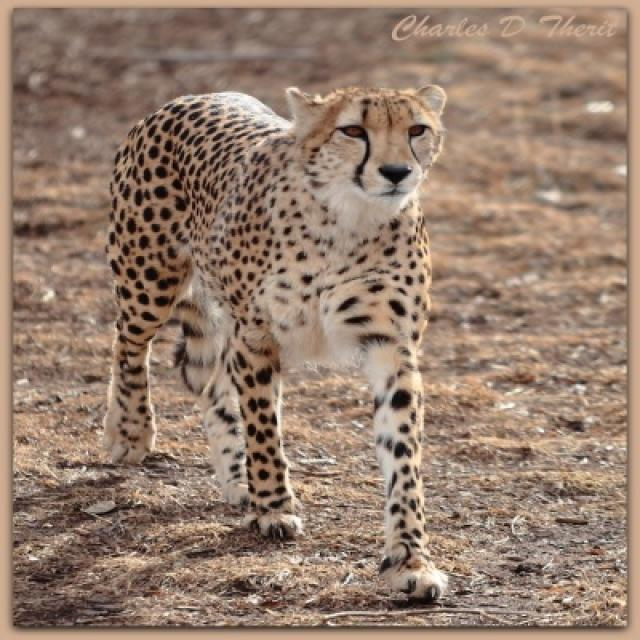Cheetah: (99, 85, 448, 605)
